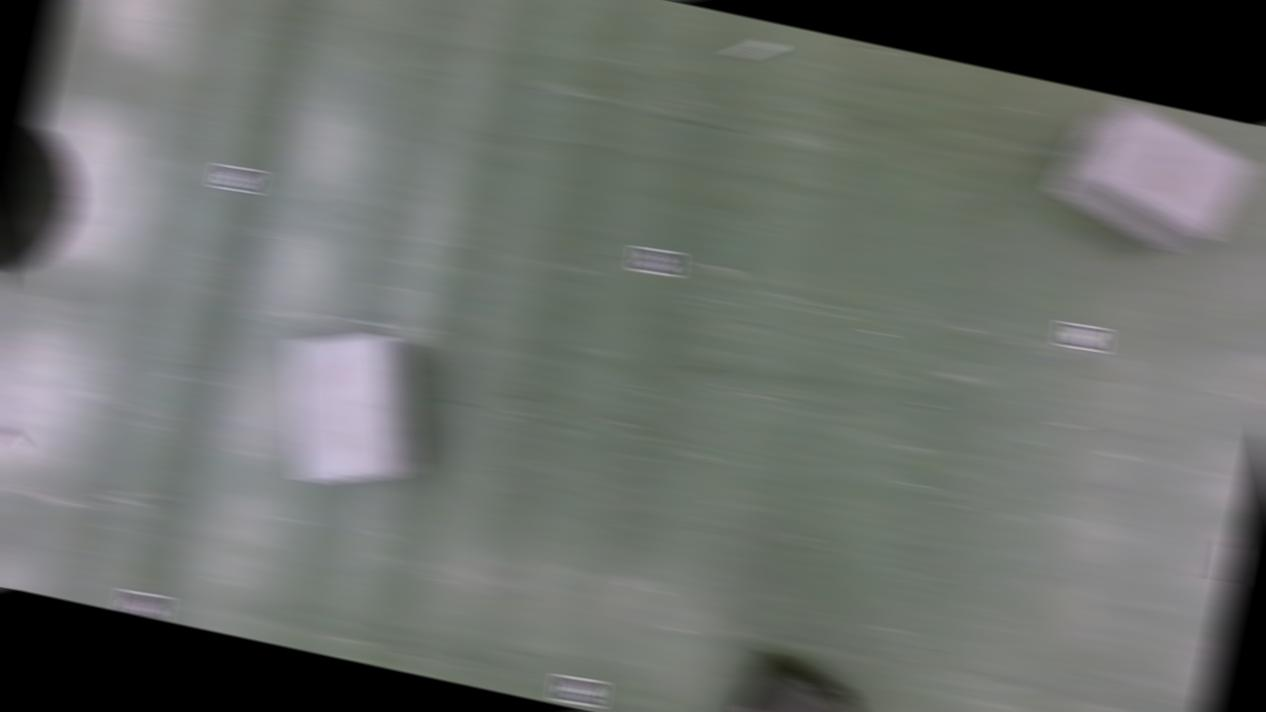probes: (730, 32, 782, 67), (1214, 536, 1247, 584), (0, 407, 28, 446)
rako: (1042, 86, 1266, 270), (260, 314, 447, 507), (714, 644, 878, 712)
